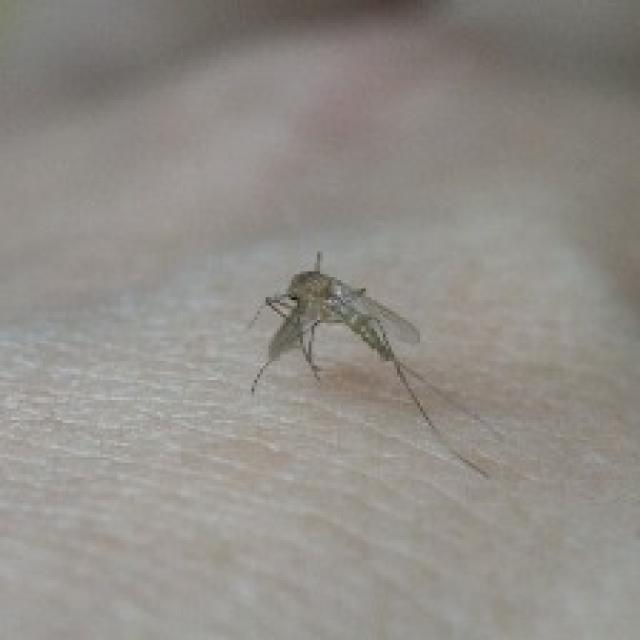culex: (243, 249, 506, 477)
